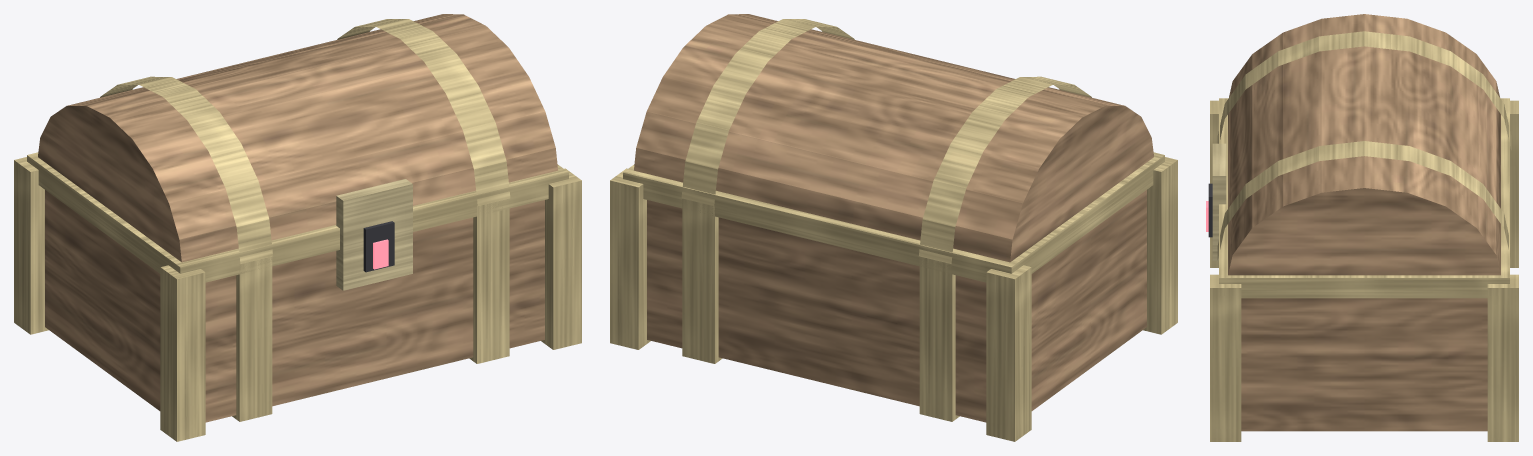
File: treasure-chest-gem.glb
3 views of the same model, side by side, from view 1: azimuth 30°, elevation 25°; view 2: azimuth 150°, elevation 25°; view 3: azimuth 270°, elevation 25° (orthographic). The views are drawn at different scales.
Parts seen in each view (by area): view 1: treasure-chest-gem; view 2: treasure-chest-gem; view 3: treasure-chest-gem.
Part boxes in pixels (x1,y1,x2,y2): treasure-chest-gem: (14,14,581,441); treasure-chest-gem: (610,14,1177,441); treasure-chest-gem: (1206,14,1518,441).
Size of the model in its own units: 0.99 by 0.628 by 0.699.
5 materials, 3 textured.
